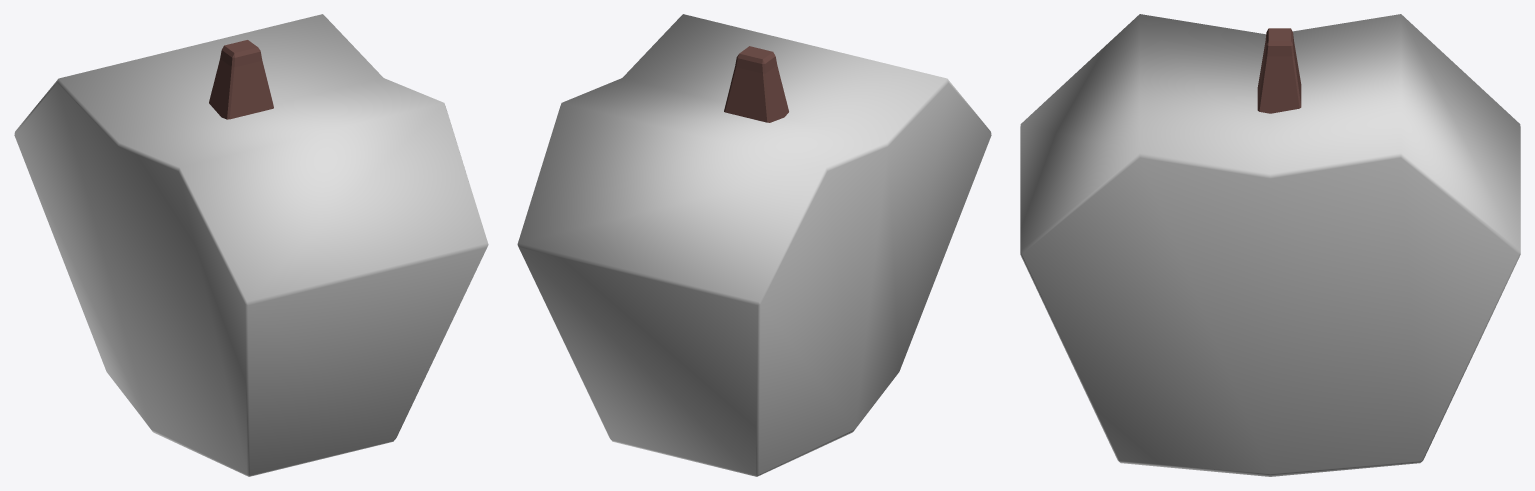
File: apple.fbx
3 renders of one model, left to right at view 1: azimuth 30°, elevation 25°; view 2: azimuth 150°, elevation 25°; view 3: azimuth 270°, elevation 25°, orthographic. The views are drawn at different scales.
Parts seen in each view (by area): view 1: Cube.003; view 2: Cube.003; view 3: Cube.003.
Boxes of the visible parts, bbox=[...] form: Cube.003: bbox=[14, 14, 488, 476]; Cube.003: bbox=[517, 14, 991, 476]; Cube.003: bbox=[1020, 14, 1520, 476].
Bounding box in the file's own units: 16.03 × 20.65 × 24.15.
